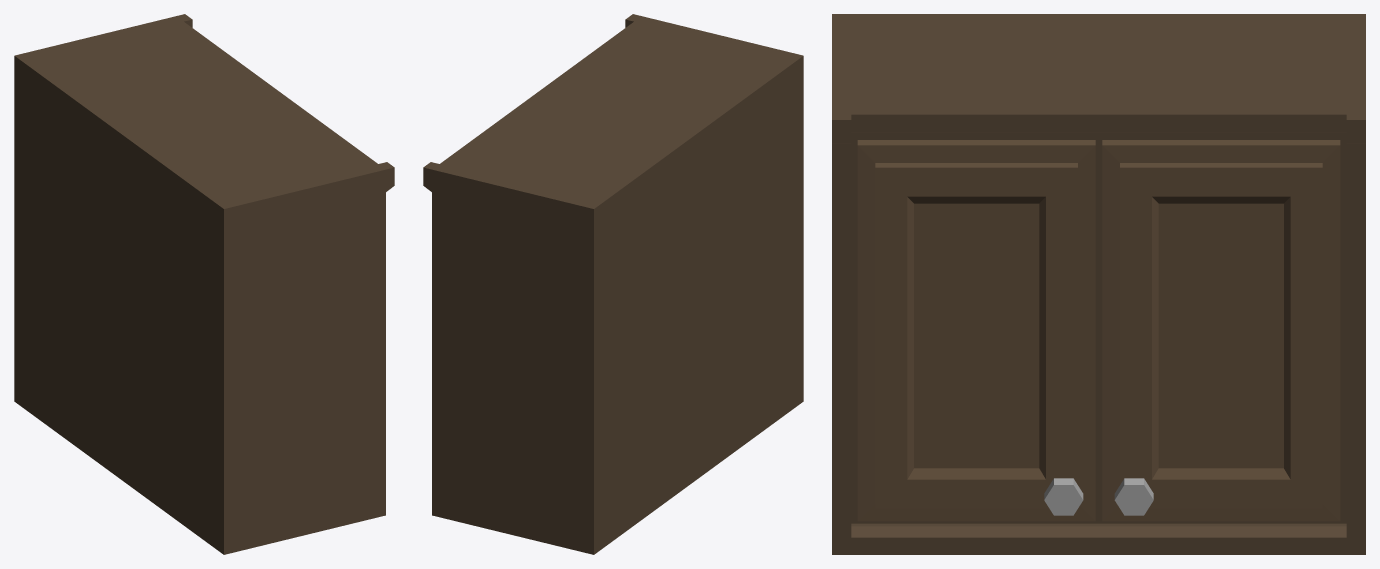
Rendered from SM_kitchenCabinet_05.glb.
3 views of the same model, side by side, from view 1: azimuth 30°, elevation 25°; view 2: azimuth 150°, elevation 25°; view 3: azimuth 270°, elevation 25° (orthographic). The views are drawn at different scales.
Parts seen in each view (by area): view 1: SM_kitchenCabinet_05; view 2: SM_kitchenCabinet_05; view 3: SM_kitchenCabinet_05.
Boxes of the visible parts, bbox=[...] form: SM_kitchenCabinet_05: bbox=[14, 14, 394, 554]; SM_kitchenCabinet_05: bbox=[423, 14, 803, 554]; SM_kitchenCabinet_05: bbox=[832, 14, 1365, 554].
Bounding box in the file's own units: 0.4957 × 0.91 × 1.
1 material, 1 textured.
